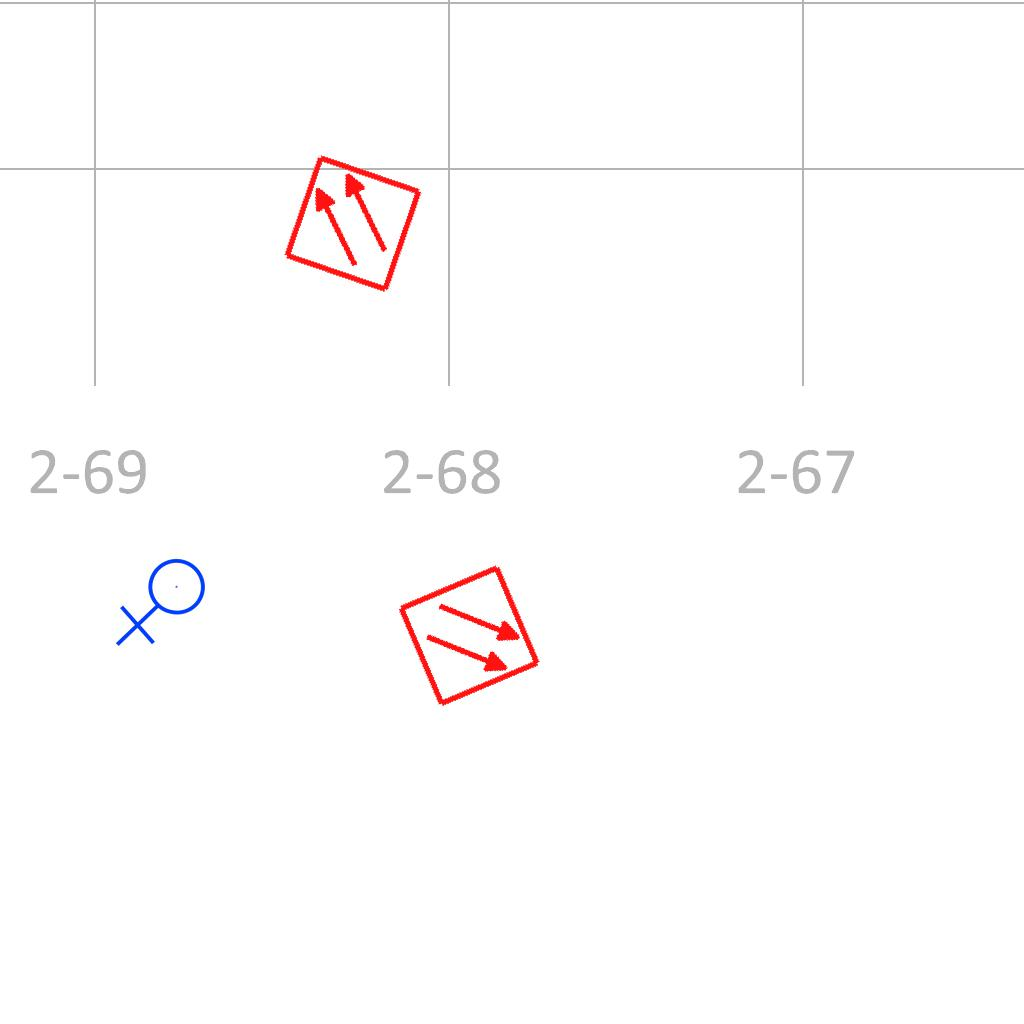Elektroanschluss_allgemein_230V_Geraeteanschlussdose_230V: (115, 557, 214, 651)
RMO_Rauchmelder_optischer: (395, 561, 544, 710), (280, 151, 425, 296)
